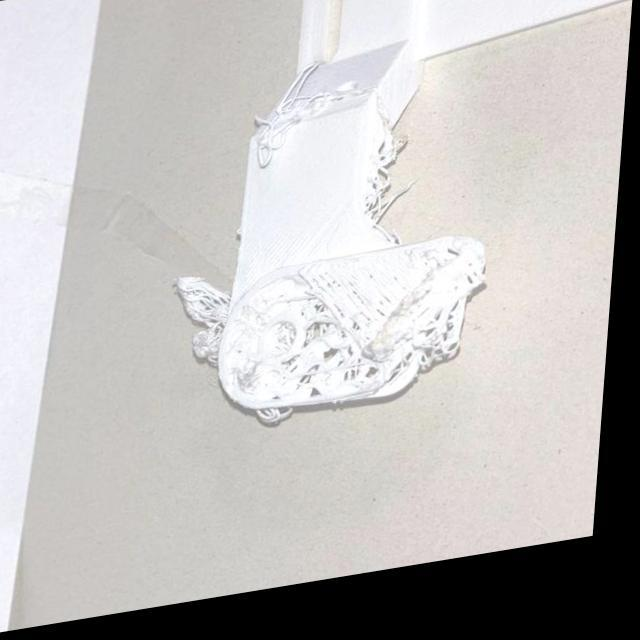spaghetti: (418, 290, 481, 380), (365, 140, 414, 232), (180, 274, 239, 342), (252, 113, 312, 172)
